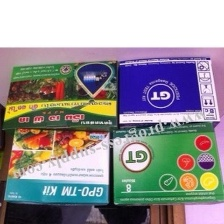book: (0, 56, 120, 142), (109, 119, 223, 209), (114, 52, 221, 143), (1, 125, 112, 209)
